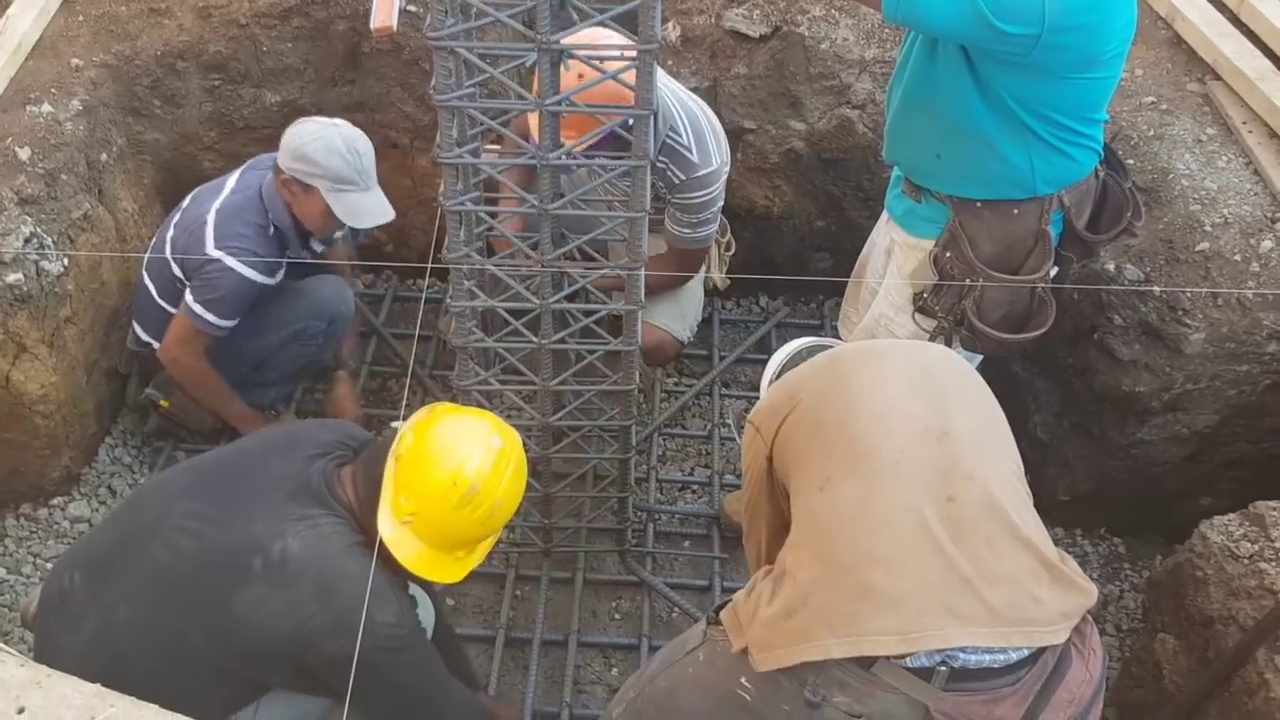helmet: (376, 406, 530, 592), (523, 27, 645, 150)
helmet-off: (267, 116, 396, 238)
helmet-on: (312, 402, 538, 587), (522, 17, 662, 166)
person: (624, 335, 1116, 720), (0, 387, 572, 708), (843, 0, 1143, 366), (124, 109, 391, 457), (487, 0, 733, 365)
